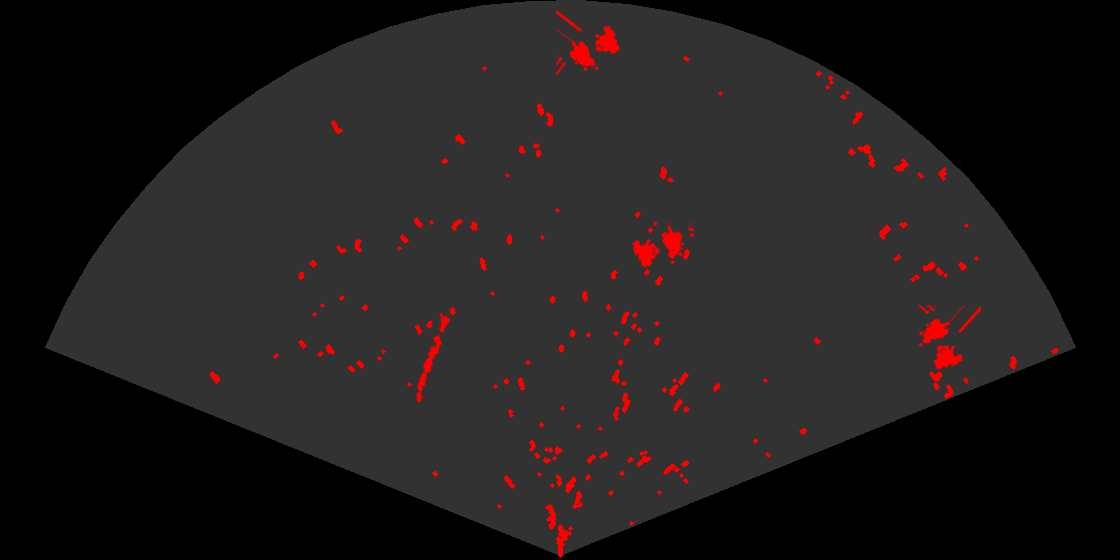cage: (556, 8, 622, 78), (916, 305, 981, 371), (630, 222, 694, 269)
chain: (414, 307, 452, 405)
